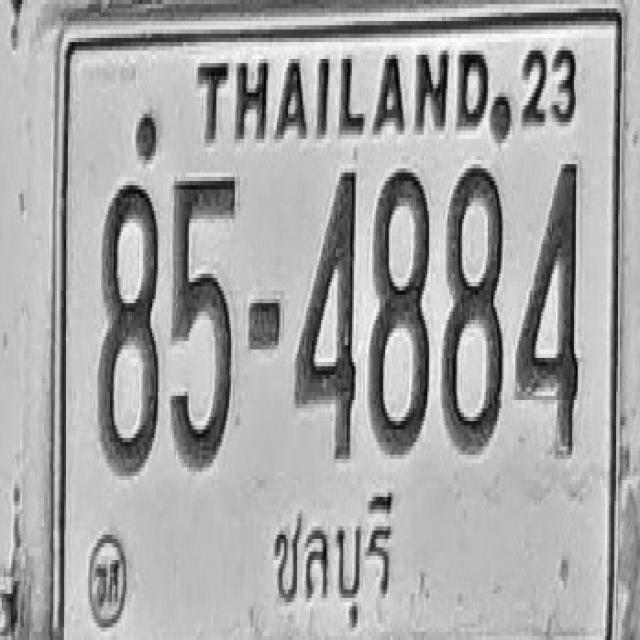4: (516, 158, 579, 453), (294, 166, 357, 457)
5: (172, 171, 238, 465)
8: (98, 179, 159, 474), (442, 162, 502, 449), (370, 166, 430, 453)
Chonburi: (268, 492, 395, 636)
